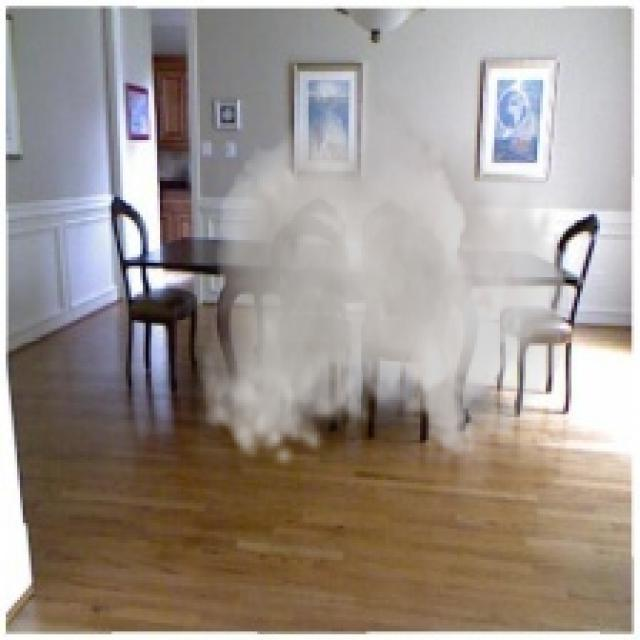Smoke: (200, 66, 569, 472)
